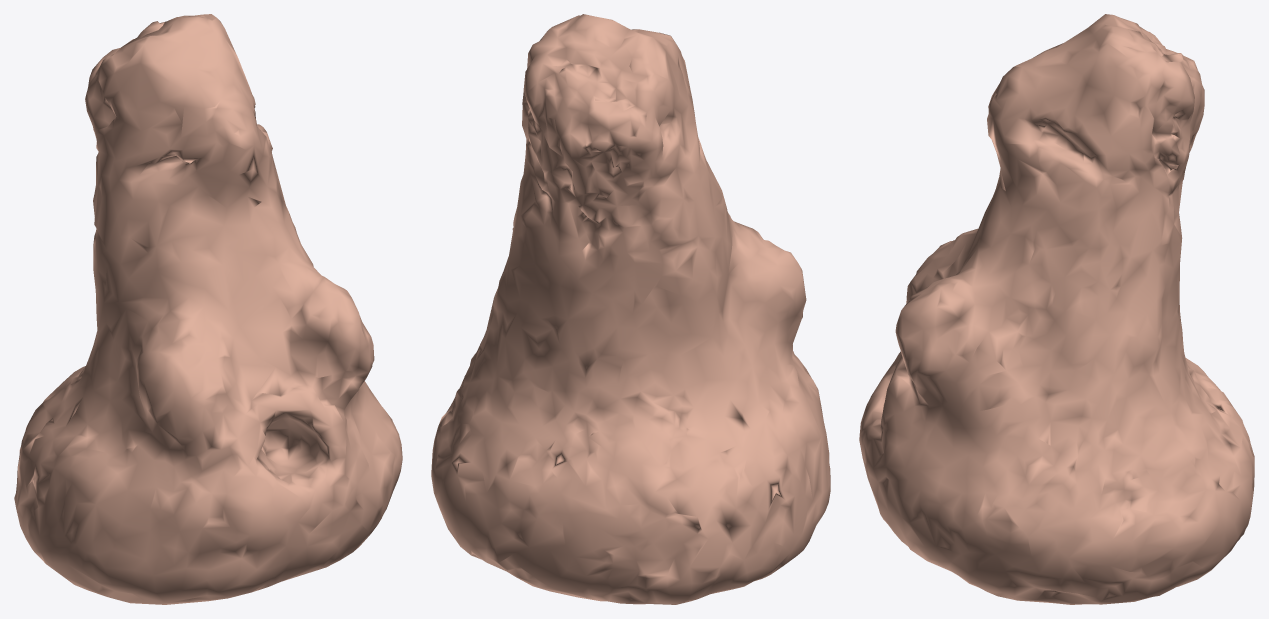
Rendered from wc-neolithic-clay-idol.lod1.glb.
The picture shows the model from 3 angles, left to right: view 1: azimuth 30°, elevation 25°; view 2: azimuth 150°, elevation 25°; view 3: azimuth 270°, elevation 25°; orthographic projection. The views are drawn at different scales.
Visible parts, largest first — view 1: wc-neolithic-clay-idol; view 2: wc-neolithic-clay-idol; view 3: wc-neolithic-clay-idol.
Part boxes in pixels (<box>): wc-neolithic-clay-idol: <box>14,14,402,604</box>; wc-neolithic-clay-idol: <box>431,14,830,604</box>; wc-neolithic-clay-idol: <box>859,14,1254,604</box>.
Bounding box in the file's own units: 0.0992 × 0.1498 × 0.1012.
